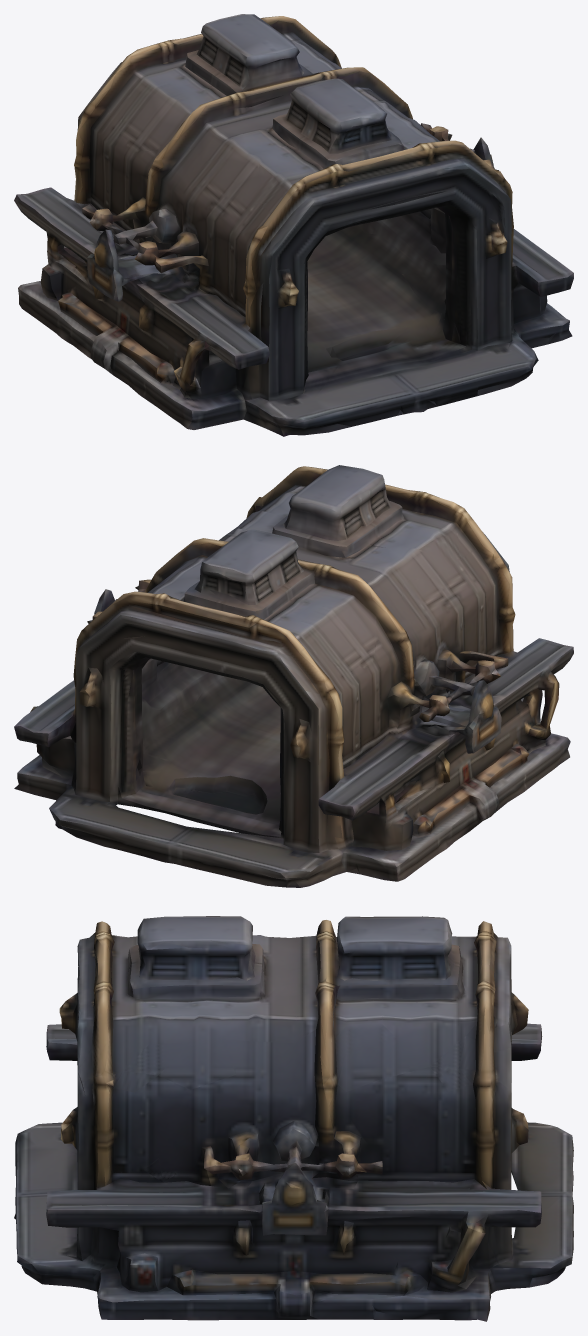
File: Brasswake hangar module.glb
3 views of the same model, one above another, from view 1: azimuth 30°, elevation 25°; view 2: azimuth 150°, elevation 25°; view 3: azimuth 270°, elevation 25° (orthographic). The views are drawn at different scales.
Visible parts, largest first — view 1: IndustrialBuilding; view 2: IndustrialBuilding; view 3: IndustrialBuilding.
Part boxes in pixels (x1,y1,x2,y2): IndustrialBuilding: [14, 14, 573, 436]; IndustrialBuilding: [14, 465, 573, 887]; IndustrialBuilding: [14, 916, 573, 1321].
Bounding box in the file's own units: 11.01 × 6.8 × 12.
1 material, 1 textured.
